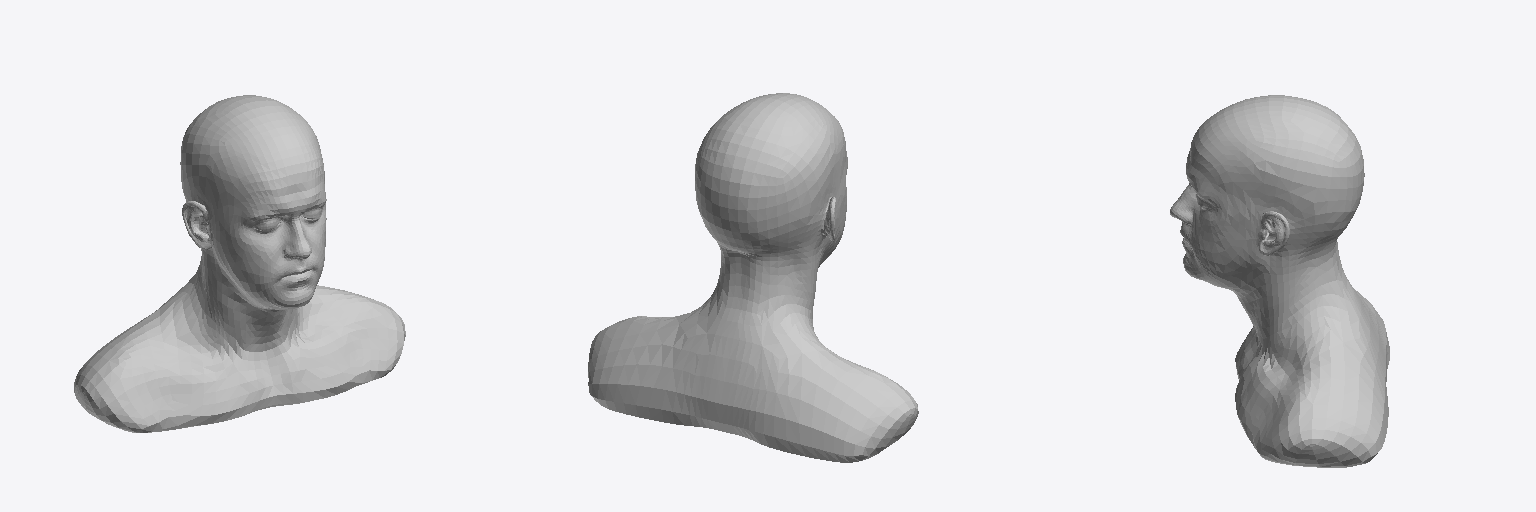
Rendered from Infinite-Level_02.obj.
3 renders of one model, left to right at view 1: azimuth 30°, elevation 25°; view 2: azimuth 150°, elevation 25°; view 3: azimuth 270°, elevation 25°, orthographic.
Parts seen in each view (by area): view 1: Infinite-Level_02.001; view 2: Infinite-Level_02.001; view 3: Infinite-Level_02.001.
Boxes of the visible parts, box(x1,y1,x2,y2) form: Infinite-Level_02.001: box(74, 95, 405, 432); Infinite-Level_02.001: box(588, 93, 918, 462); Infinite-Level_02.001: box(1170, 95, 1389, 467).
Bounding box in the file's own units: 4.65 × 4.32 × 2.82.